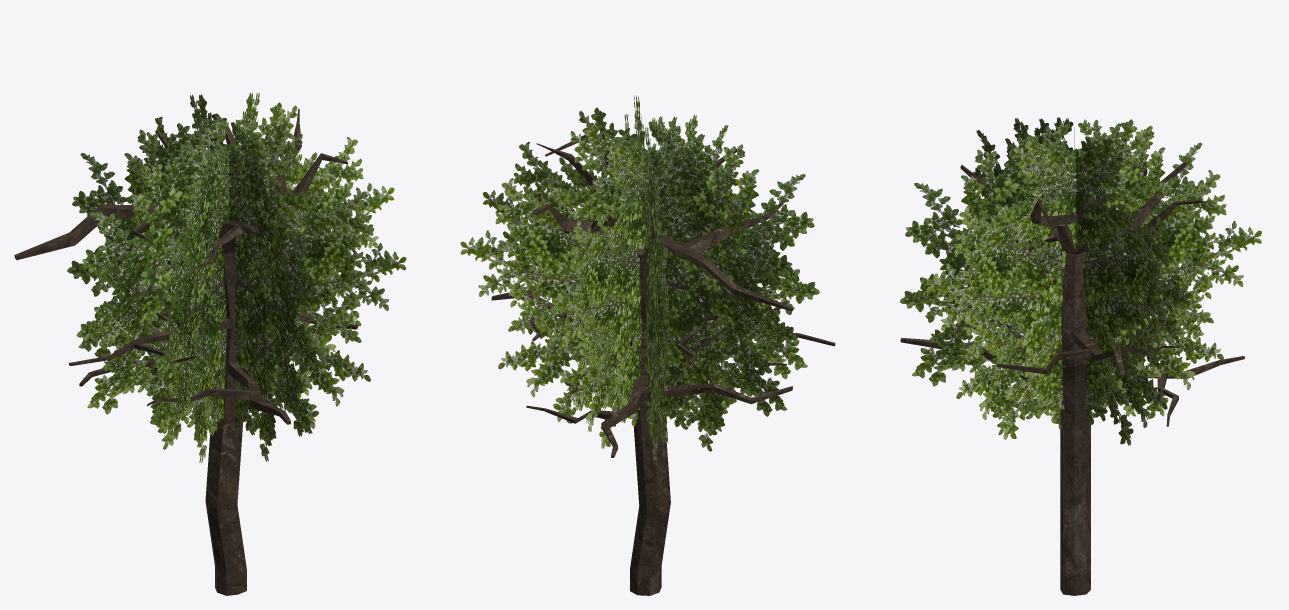
File: The pohon.fbx
3 views of the same model, side by side, from view 1: azimuth 30°, elevation 25°; view 2: azimuth 150°, elevation 25°; view 3: azimuth 270°, elevation 25° (orthographic).
Visible parts, largest first — view 1: The pohon; view 2: The pohon; view 3: The pohon.
Boxes of the visible parts, <box> form: The pohon: <box>14,92,406,595</box>; The pohon: <box>460,95,835,595</box>; The pohon: <box>900,117,1261,595</box>.
Bounding box in the file's own units: 808 × 1074 × 796.
